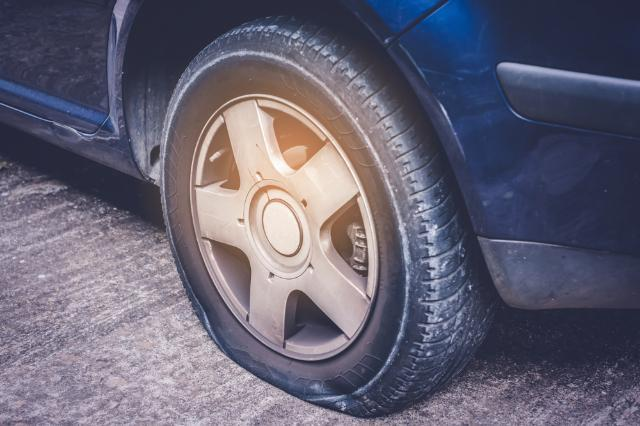tire flat: (161, 12, 494, 418)
